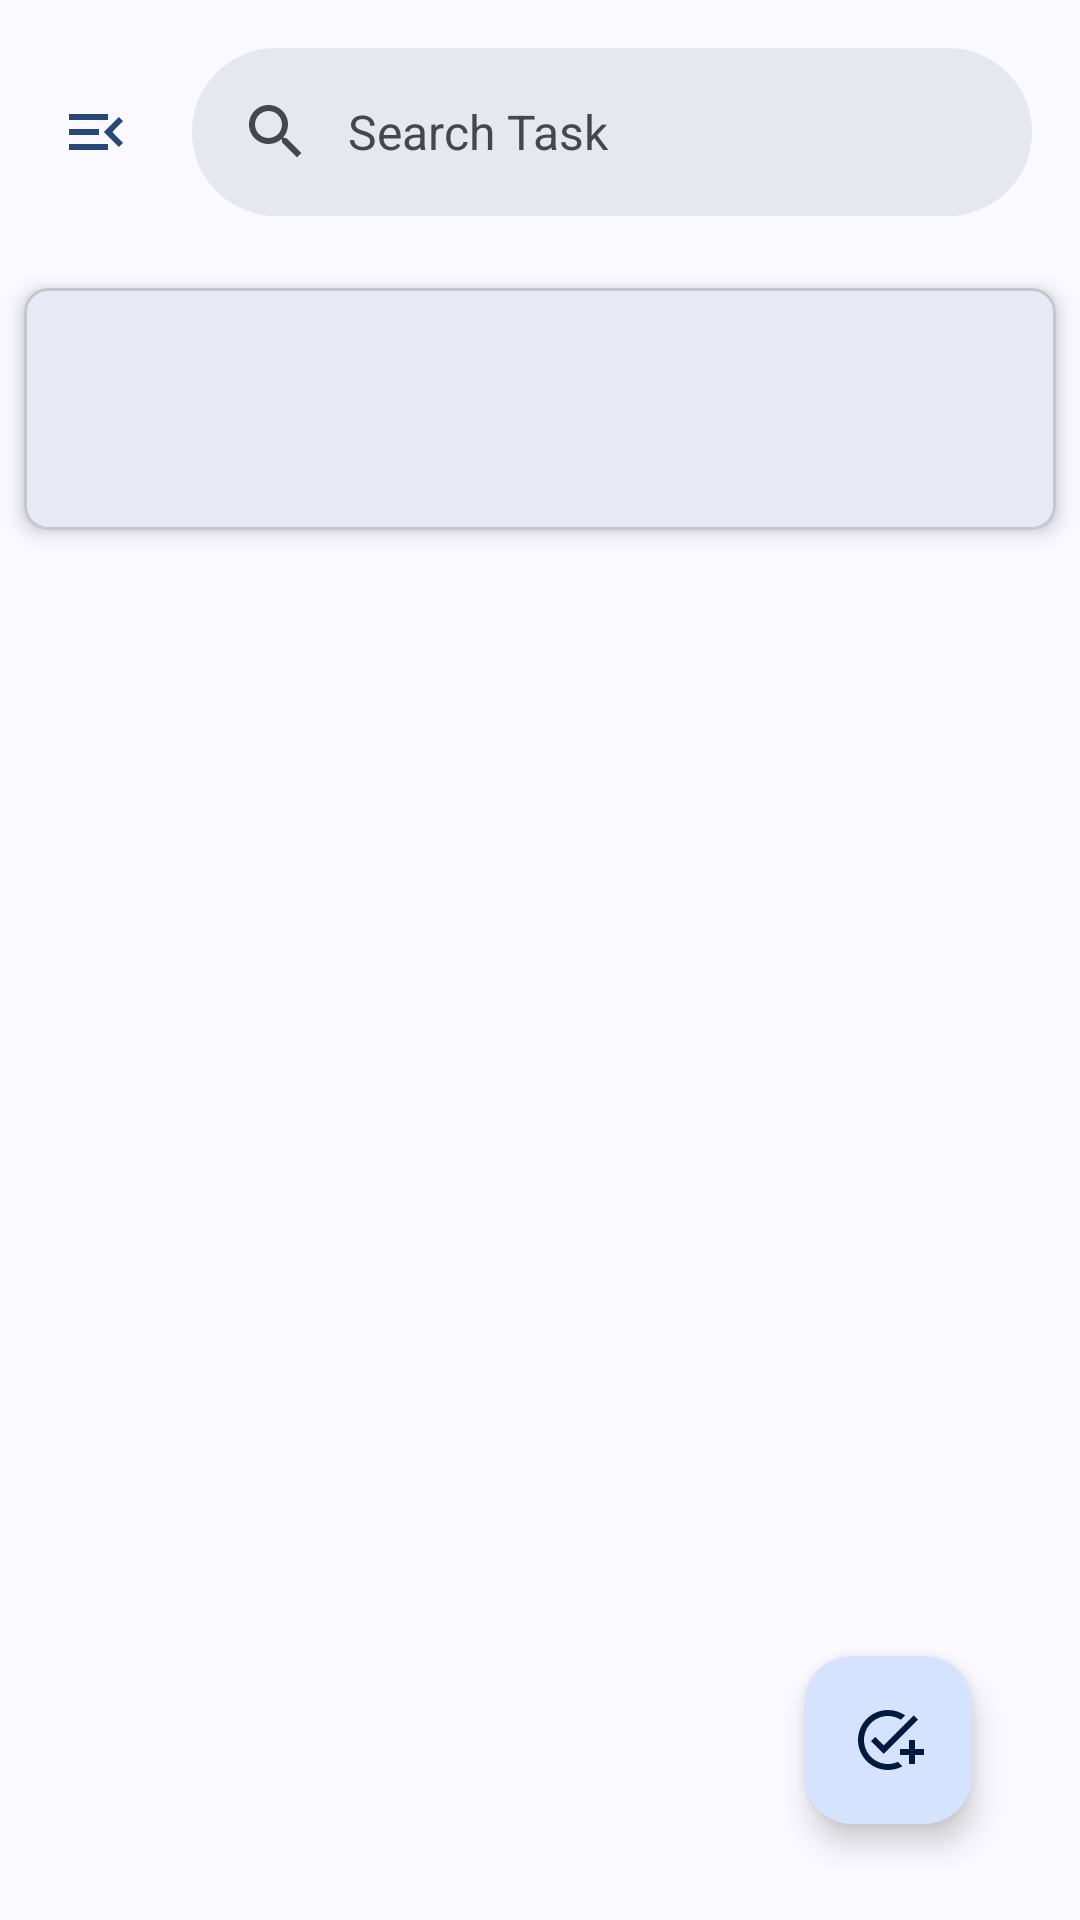

Icon click points for this 1080 × 1920 phone screenshot, format [x,y]:
add task: [888,1740]
Open menu: [96,132]
